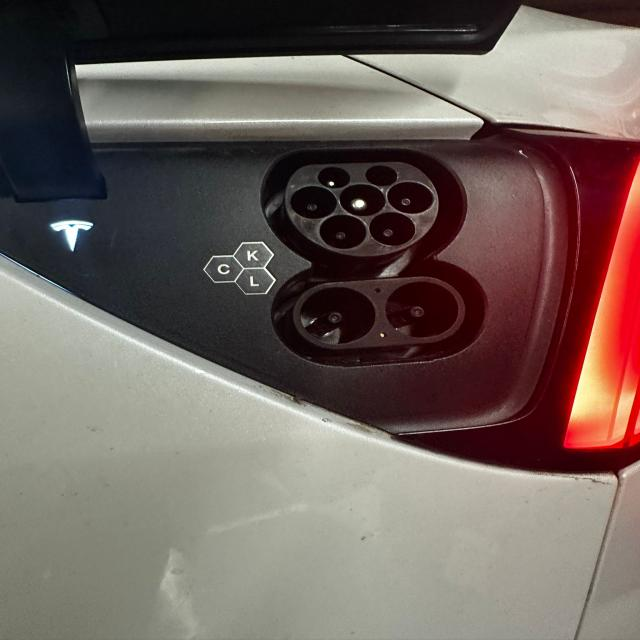inlet: (284, 162, 438, 256)
inlet-above-left: (319, 167, 350, 189)
inlet-above-right: (366, 165, 398, 186)
inlet-below-left: (320, 215, 367, 249)
inlet-below-right: (369, 212, 416, 246)
inlet-circle: (339, 184, 386, 216)
inlet-circle-left: (290, 186, 337, 219)
inlet-circle-right: (387, 182, 434, 214)
inlet-minus: (385, 282, 459, 338)
inlet-plus: (300, 286, 376, 344)
